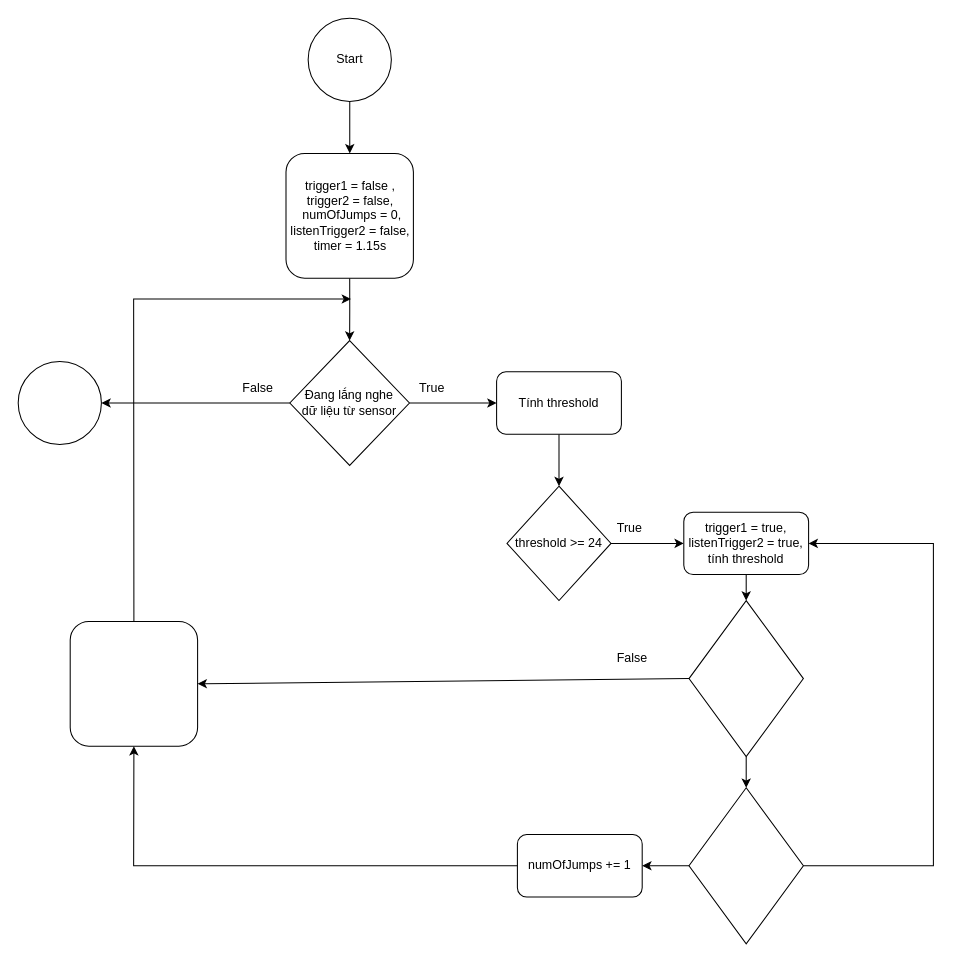
Image size: 960x962. Some labels were removed from this diagram. Each missing label, with the box of its shape:
End: (17, 360, 101, 445)
threshold <= 4: (688, 787, 803, 944)
trigger1 = false , trigger2 = false, listenTrigger2 = false, timer = 1.15s: (69, 620, 198, 746)
Trong 1.15s: (688, 600, 803, 757)
